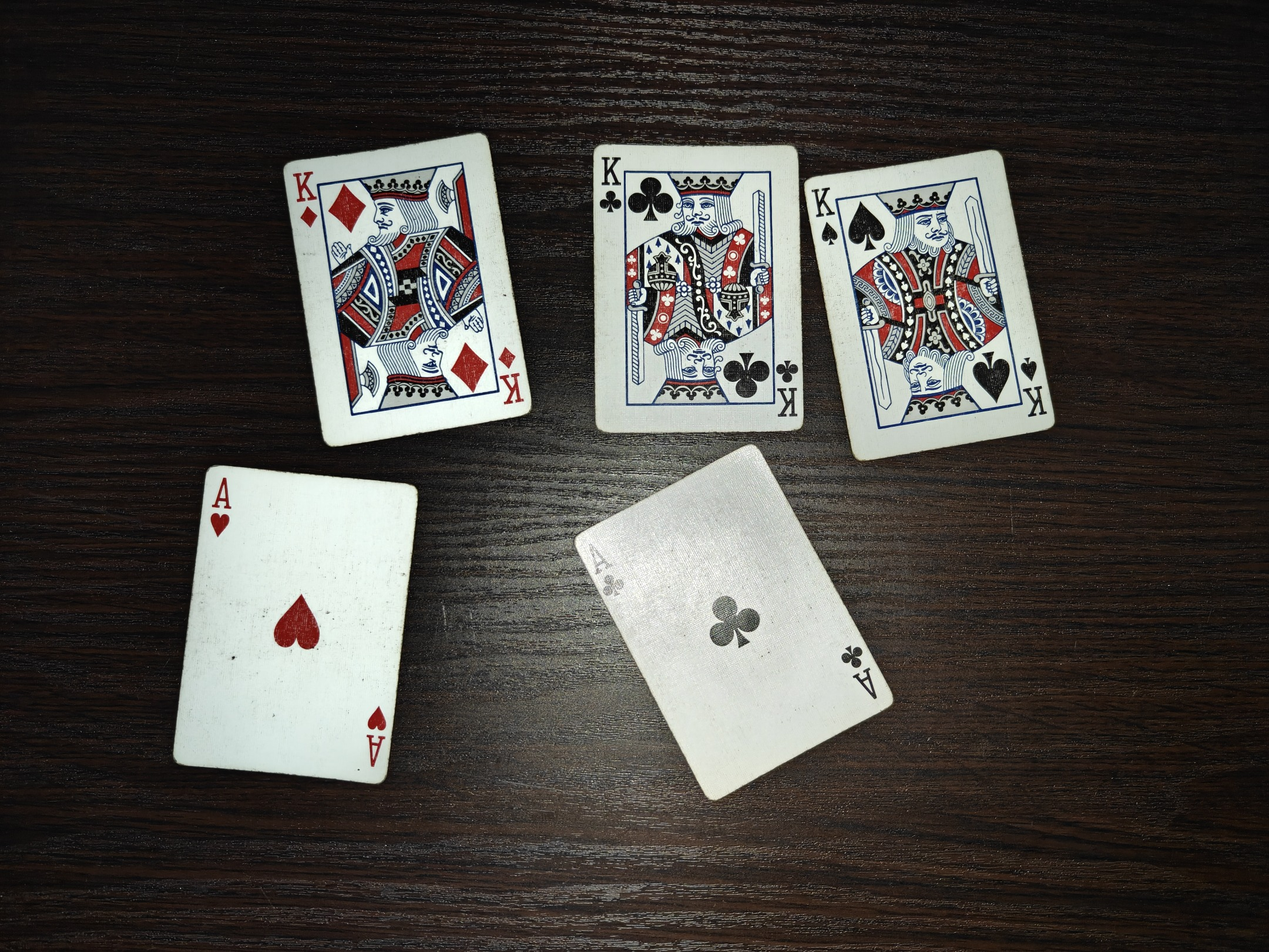AC: (576, 444, 895, 800)
AH: (173, 465, 419, 786)
KC: (592, 140, 805, 433)
KD: (282, 130, 533, 449)
KS: (805, 146, 1057, 463)
